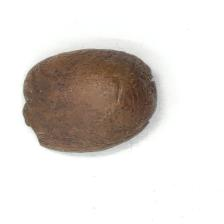NG: (23, 76, 46, 147)
